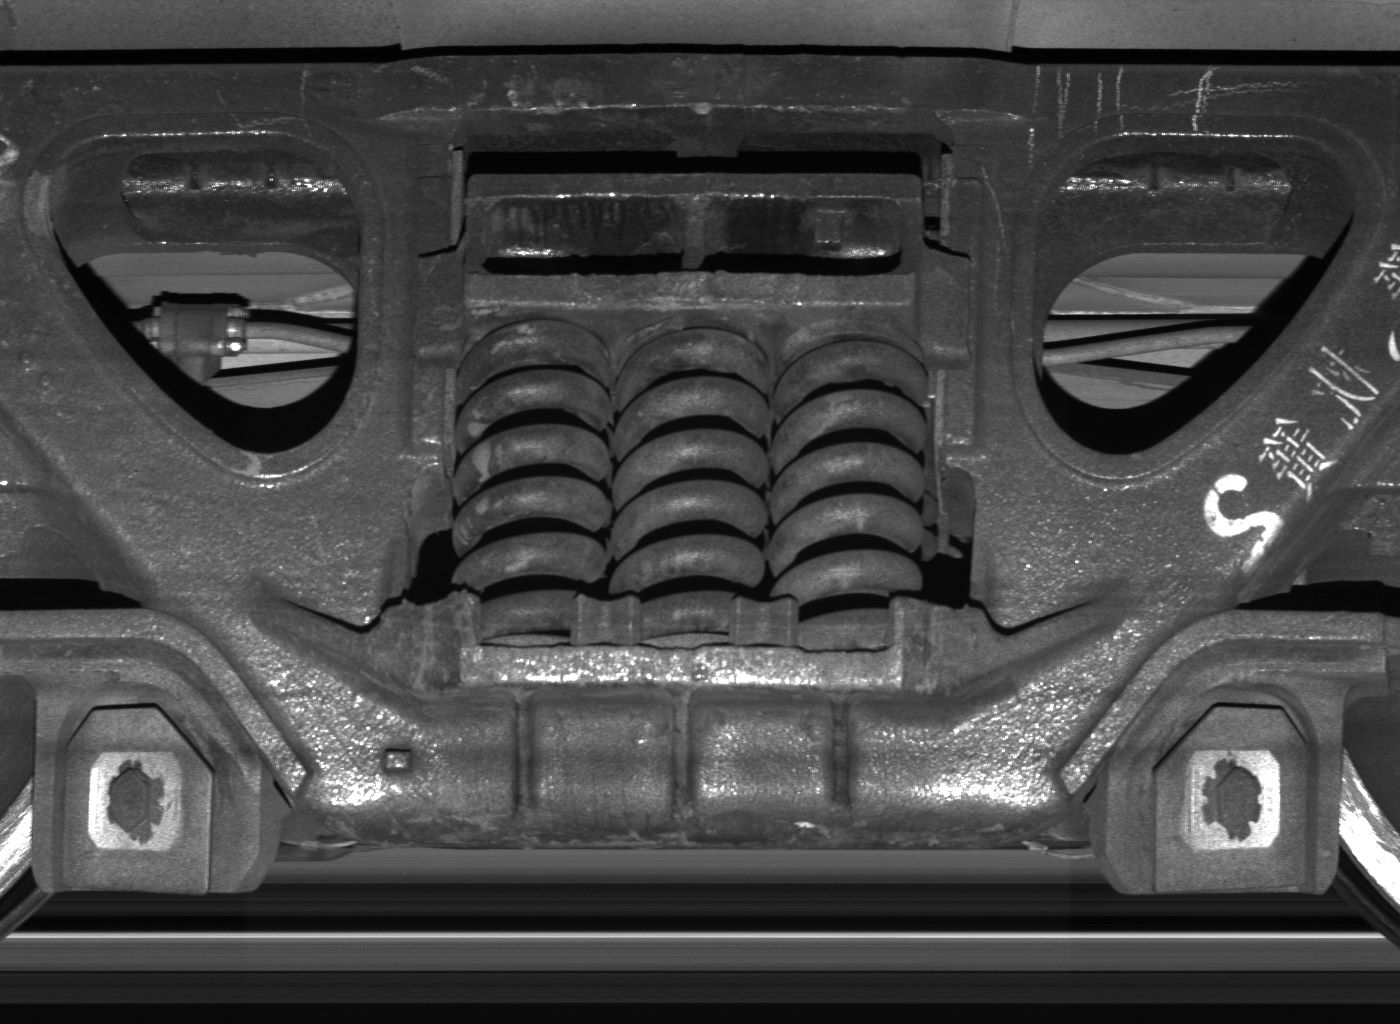normal: (1105, 685, 1339, 897), (33, 685, 246, 896)
